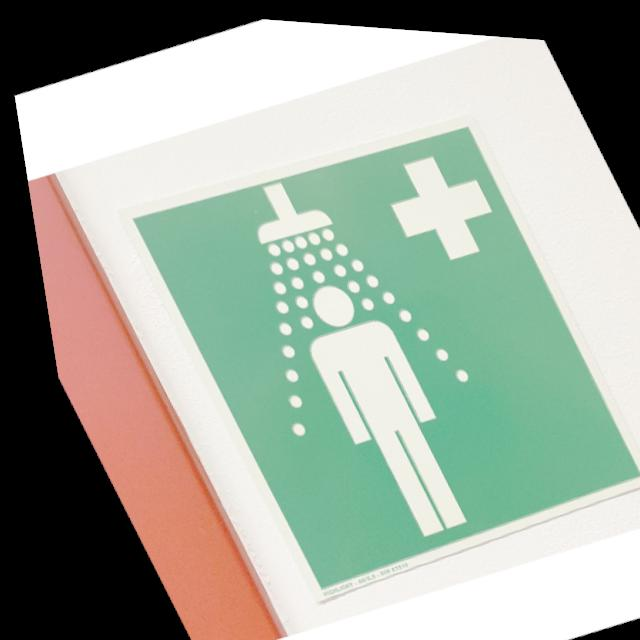shower: (94, 75, 640, 621)
